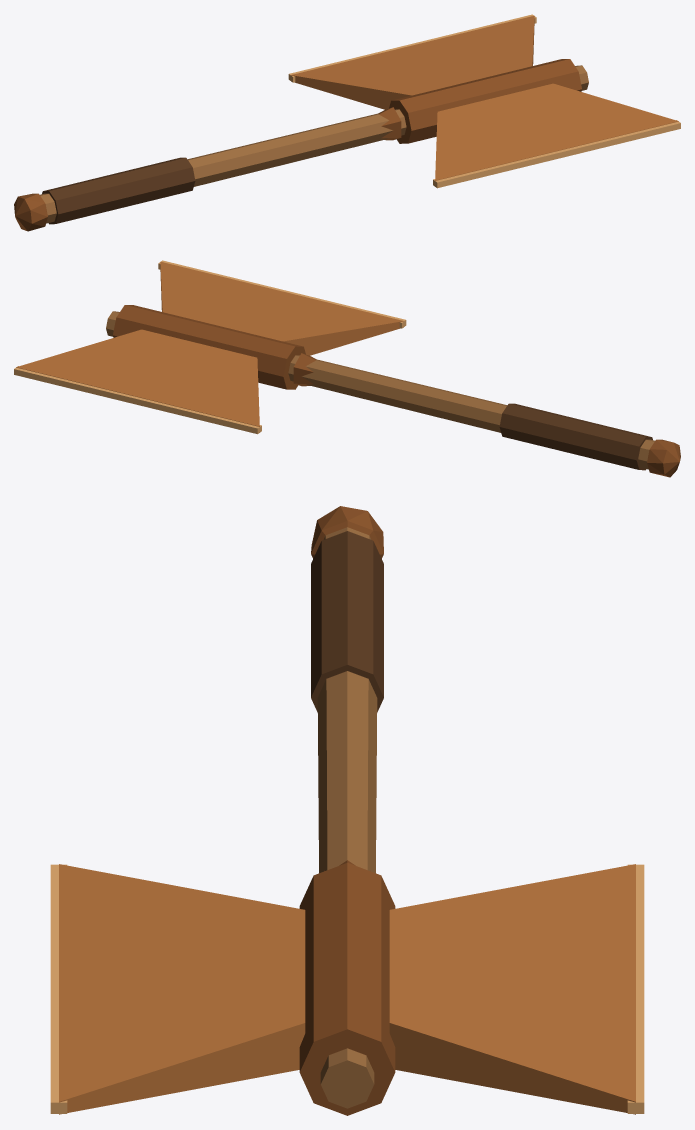
File: drop_bronze_axe.glb
3 renders of one model, top to bottom at view 1: azimuth 30°, elevation 25°; view 2: azimuth 150°, elevation 25°; view 3: azimuth 270°, elevation 25°, orthographic. The views are drawn at different scales.
Visible parts, largest first — view 1: drop_bronze_axe; view 2: drop_bronze_axe; view 3: drop_bronze_axe.
Part boxes in pixels (box(x1,y1,x2,y2)): drop_bronze_axe: box(14, 14, 680, 231); drop_bronze_axe: box(14, 260, 680, 477); drop_bronze_axe: box(50, 506, 644, 1115).
Bounding box in the file's own units: 0.7768 × 0.0544 × 0.3376.
